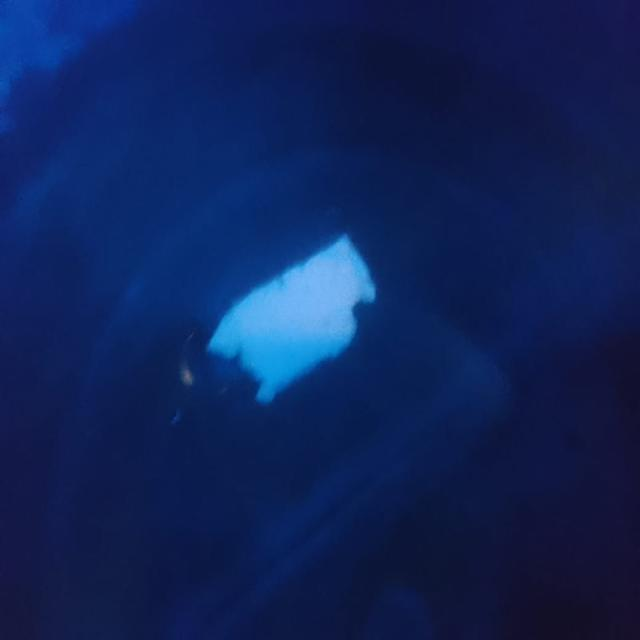thermocoal: (199, 230, 388, 410)
